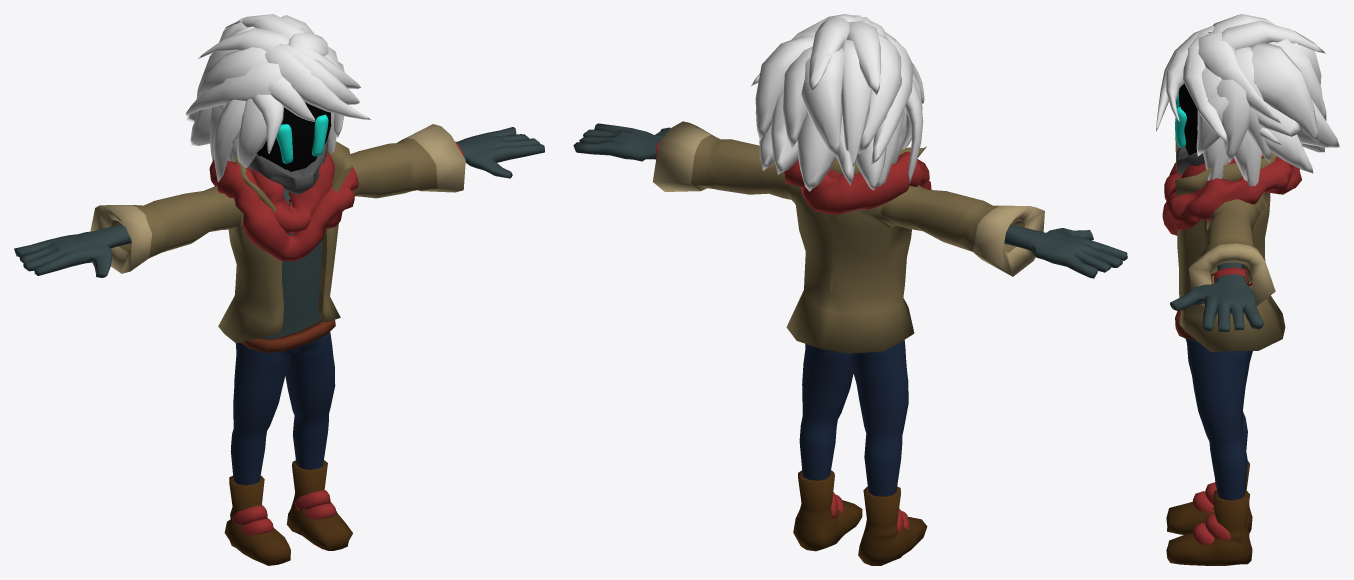
File: spielfigur.glb
3 renders of one model, left to right at view 1: azimuth 30°, elevation 25°; view 2: azimuth 150°, elevation 25°; view 3: azimuth 270°, elevation 25°, orthographic. The views are drawn at different scales.
Visible parts, largest first — view 1: jacket, hair, body, pants, BezierCircle, Boots, Cube.001, chin, belt, eyes; view 2: jacket, hair, pants, Boots, body, BezierCircle; view 3: hair, jacket, pants, Boots, BezierCircle, body, Cube.001, chin, eyes, armband.
Part boxes in pixels (left/top/right/bottom): jacket: left=90, top=124, right=465, bottom=343; hair: left=185, top=14, right=370, bottom=181; body: left=14, top=102, right=544, bottom=338; pants: left=230, top=331, right=335, bottom=485; BezierCircle: left=209, top=151, right=358, bottom=261; Boots: left=224, top=460, right=352, bottom=565; Cube.001: left=232, top=490, right=336, bottom=535; chin: left=249, top=137, right=328, bottom=194; belt: left=240, top=320, right=335, bottom=352; eyes: left=276, top=114, right=328, bottom=163; jacket: left=652, top=121, right=1044, bottom=353; hair: left=750, top=14, right=924, bottom=191; pants: left=799, top=340, right=908, bottom=496; Boots: left=793, top=470, right=927, bottom=565; body: left=573, top=123, right=1127, bottom=278; BezierCircle: left=783, top=151, right=931, bottom=214; hair: left=1156, top=14, right=1339, bottom=186; jacket: left=1175, top=136, right=1285, bottom=352; pants: left=1186, top=339, right=1252, bottom=500; Boots: left=1166, top=461, right=1252, bottom=565; BezierCircle: left=1162, top=154, right=1301, bottom=235; body: left=1170, top=83, right=1263, bottom=331; Cube.001: left=1192, top=482, right=1231, bottom=544; chin: left=1176, top=146, right=1233, bottom=174; eyes: left=1175, top=91, right=1186, bottom=147; armband: left=1211, top=267, right=1252, bottom=286.
Bounding box in the file's own units: 8.52 × 8.12 × 2.58.
